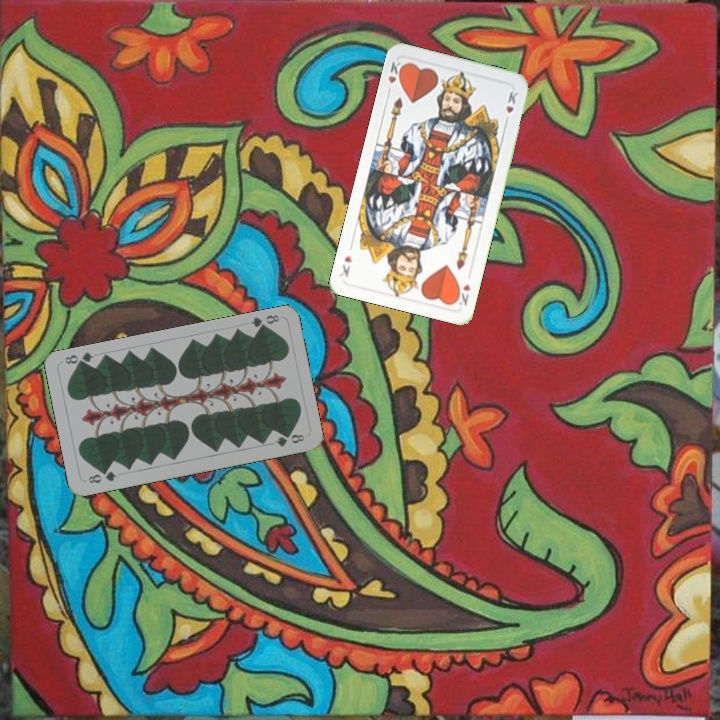G8: (247, 310, 282, 334), (84, 467, 119, 486)
HK: (383, 57, 407, 96), (451, 280, 473, 308)
